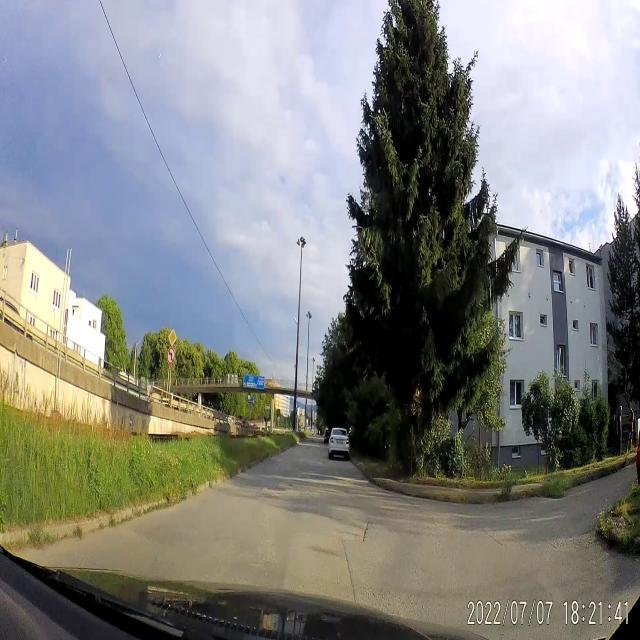Pothole: (356, 511, 376, 547)
